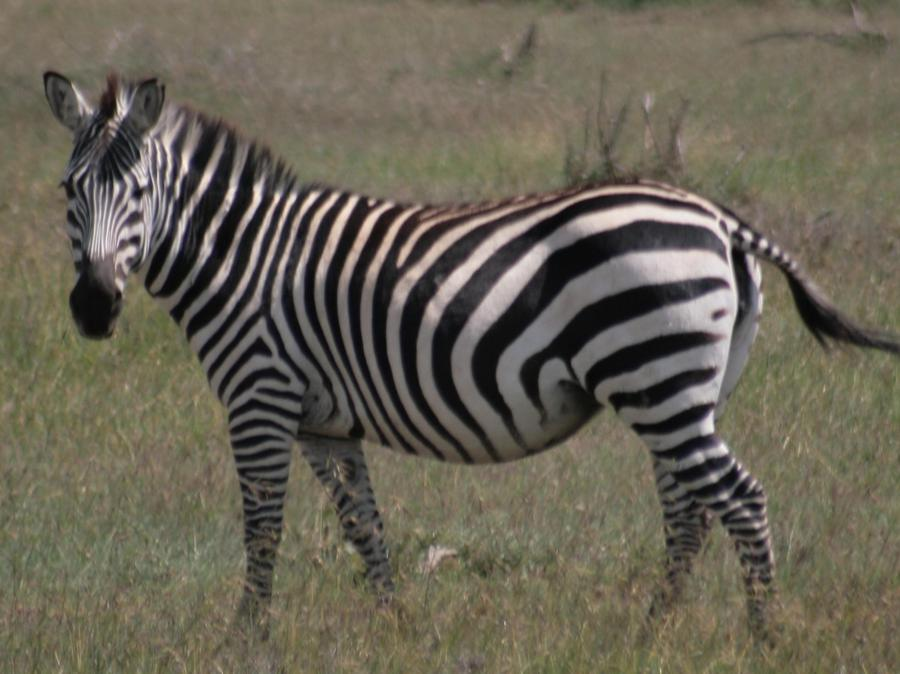zebra_plains: (189, 161, 750, 463)
